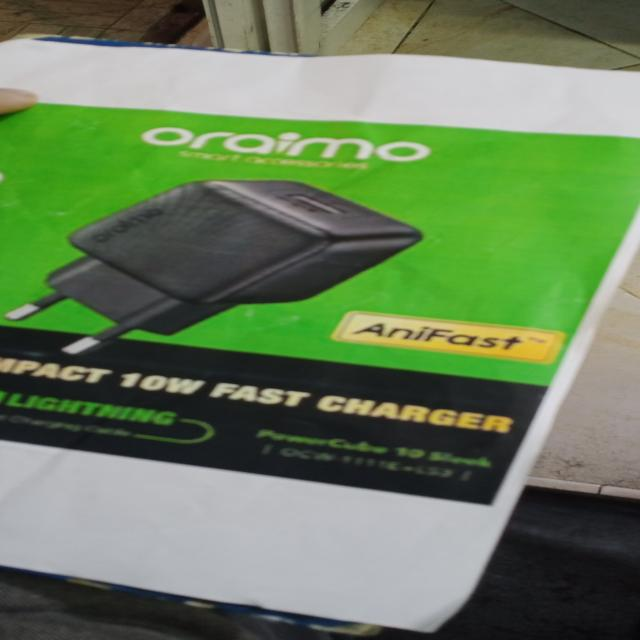PowerCube 10 Sleek OCW-1111ExL53: (249, 416, 513, 495)
